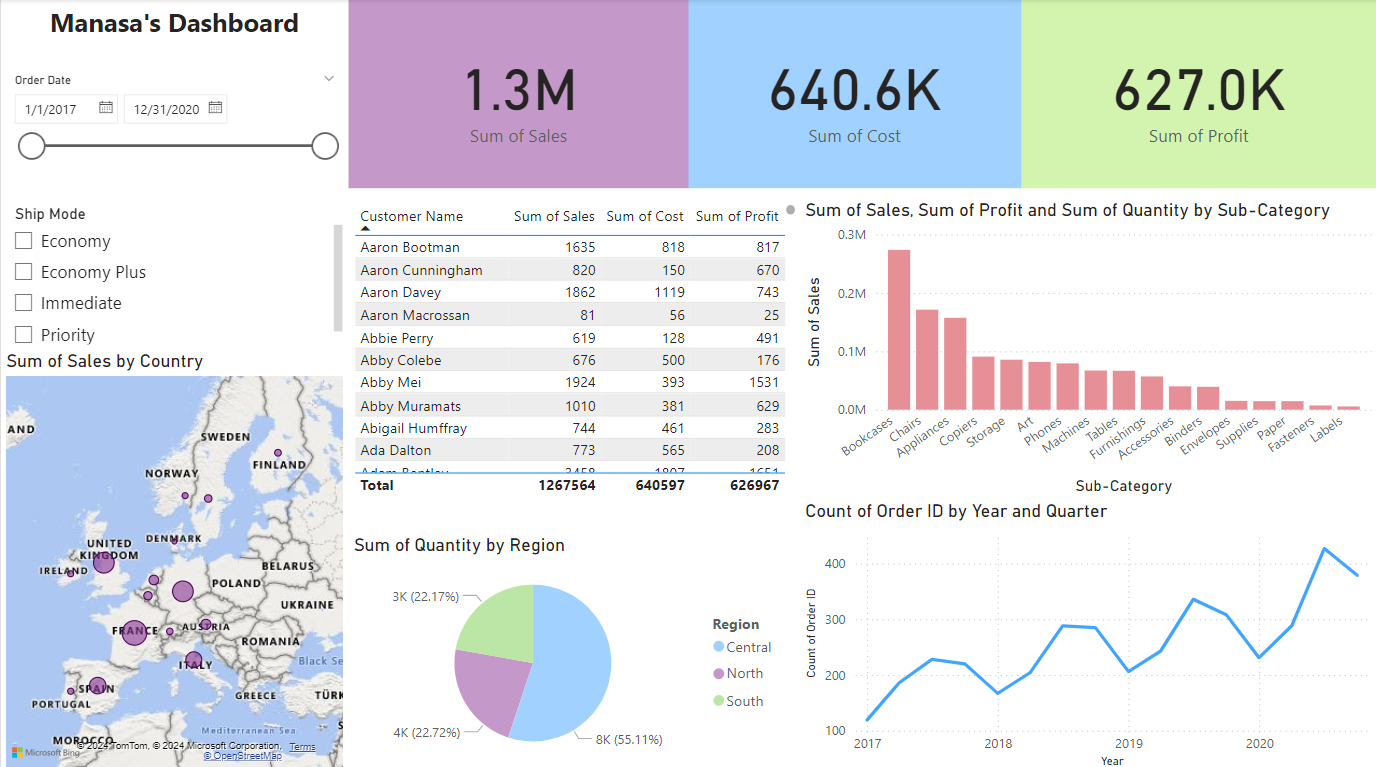

The page's visual inventory and layout, read from the dashboard file:
{"tool":"powerbi","page":{"name":"Page 1","canvas":[1280,720],"ordinal":0},"visuals":[{"type":"card","fields":{"Values":["List of Orders.Sales"]},"box":[322.8,0,316.7,176.1],"z":0},{"type":"card","fields":{"Values":["List of Orders.Profit"]},"box":[948.9,0,331.4,176.1],"z":1000},{"type":"card","fields":{"Values":["List of Orders.Cost"]},"box":[639.5,0,309.4,176.1],"z":2000},{"type":"tableEx","fields":{"Values":["List of Orders.Customer Name","List of Orders.Sales","List of Orders.Cost","List of Orders.Profit"]},"box":[322.8,185.9,420.7,280],"z":3000},{"type":"clusteredColumnChart","fields":{"Category":["List of Orders.Sub-Category"],"Y":["List of Orders.Sales"]},"box":[743.5,185.9,536.8,280],"z":4000},{"type":"lineChart","fields":{"Y":["List of Orders.Order ID"],"Category":["List of Orders.Order Date.Variation.Date Hierarchy.Year","List of Orders.Order Date.Variation.Date Hierarchy.Quarter"]},"box":[743.5,465.9,536.8,254.3],"z":5000},{"type":"pieChart","fields":{"Y":["List of Orders.Quantity"],"Category":["List of Orders.Region"]},"box":[322.8,497.7,408.4,221.3],"z":6000},{"type":"textbox","box":[0,0,322.5,63.8],"z":7000},{"type":"map","fields":{"Category":["List of Orders.Country"],"Size":["List of Orders.Sales"]},"box":[0,326.5,322.8,393.8],"z":8000},{"type":"slicer","fields":{"Values":["List of Orders.Ship Mode"]},"box":[0,186.2,322.5,140],"z":9000},{"type":"slicer","fields":{"Values":["List of Orders.Order Date"]},"box":[0,63.8,322.5,122.5],"z":10000}]}

Visuals, with their boxes in screenshot pixels (x1, y1, x2, y2), scaled from the page's 1280x720 canvas onto the 1376x767 screenshot:
card - List of Orders.Sales: {"left": 347, "top": 0, "right": 687, "bottom": 188}
card - List of Orders.Profit: {"left": 1020, "top": 0, "right": 1375, "bottom": 188}
card - List of Orders.Cost: {"left": 687, "top": 0, "right": 1020, "bottom": 188}
tableEx - List of Orders.Customer Name x List of Orders.Sales: {"left": 347, "top": 198, "right": 799, "bottom": 496}
clusteredColumnChart - List of Orders.Sub-Category x List of Orders.Sales: {"left": 799, "top": 198, "right": 1375, "bottom": 496}
lineChart - List of Orders.Order ID x List of Orders.Order Date.Variation.Date Hierarchy.Year: {"left": 799, "top": 496, "right": 1375, "bottom": 766}
pieChart - List of Orders.Quantity x List of Orders.Region: {"left": 347, "top": 530, "right": 786, "bottom": 766}
textbox: {"left": 0, "top": 0, "right": 347, "bottom": 68}
map - List of Orders.Country x List of Orders.Sales: {"left": 0, "top": 348, "right": 347, "bottom": 766}
slicer - List of Orders.Ship Mode: {"left": 0, "top": 198, "right": 347, "bottom": 347}
slicer - List of Orders.Order Date: {"left": 0, "top": 68, "right": 347, "bottom": 198}
